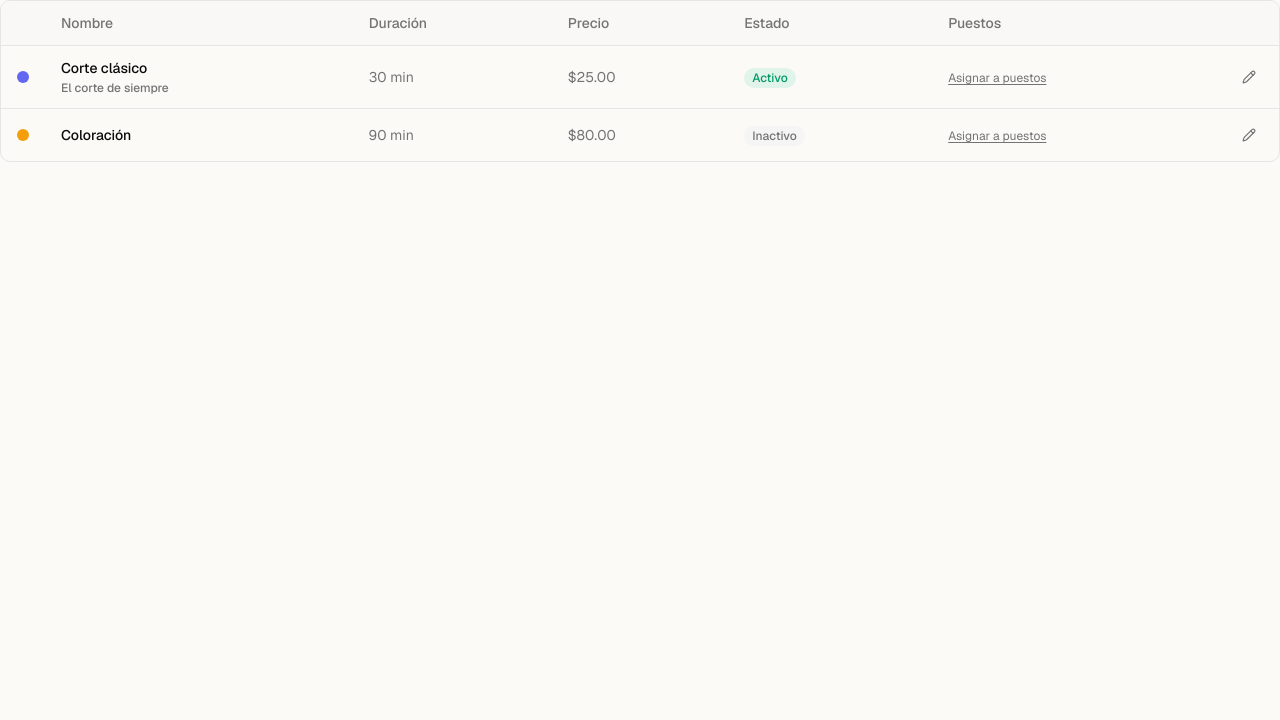
ServiceTable — diálogo de asignación › abre el diálogo al hacer clic en Asignar a puestos
This screenshot has width=1280, height=720.
Click the button "Asignar a puestos" in the row of "Corte clásico" at [997, 78], box [948,70,1046,86]
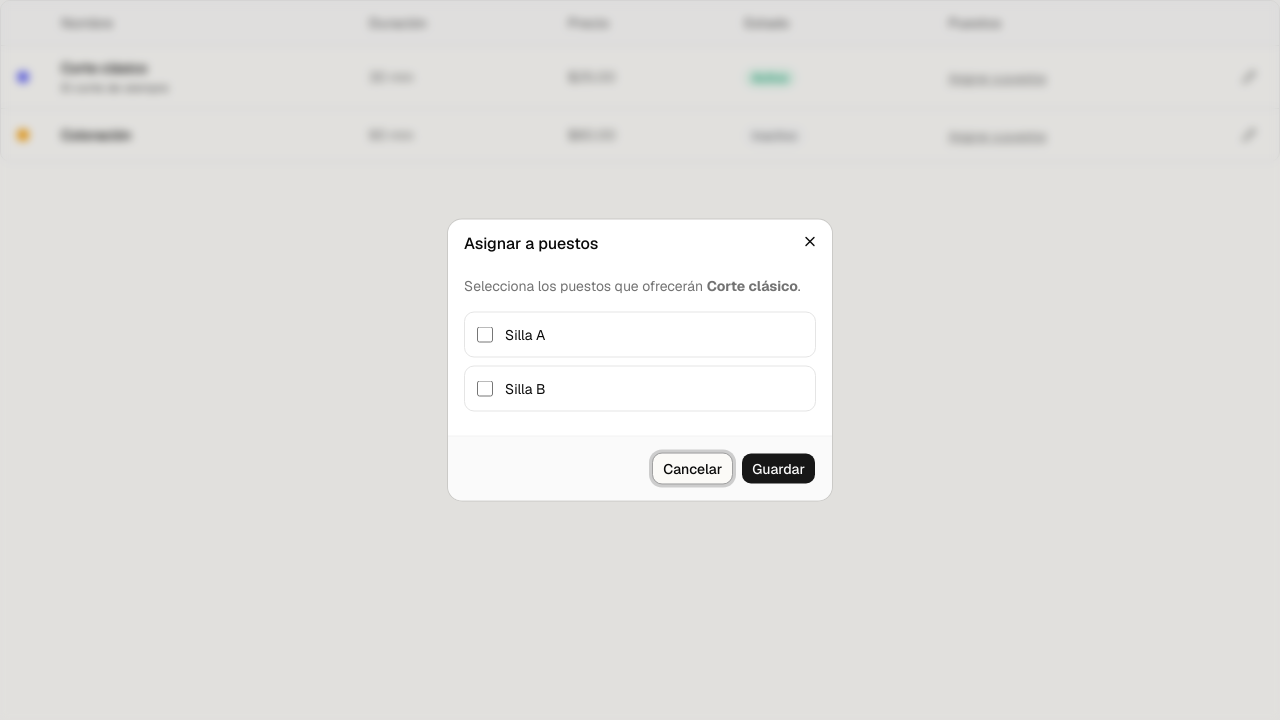
Check: the dialog is shown, box [448,220,832,500]
